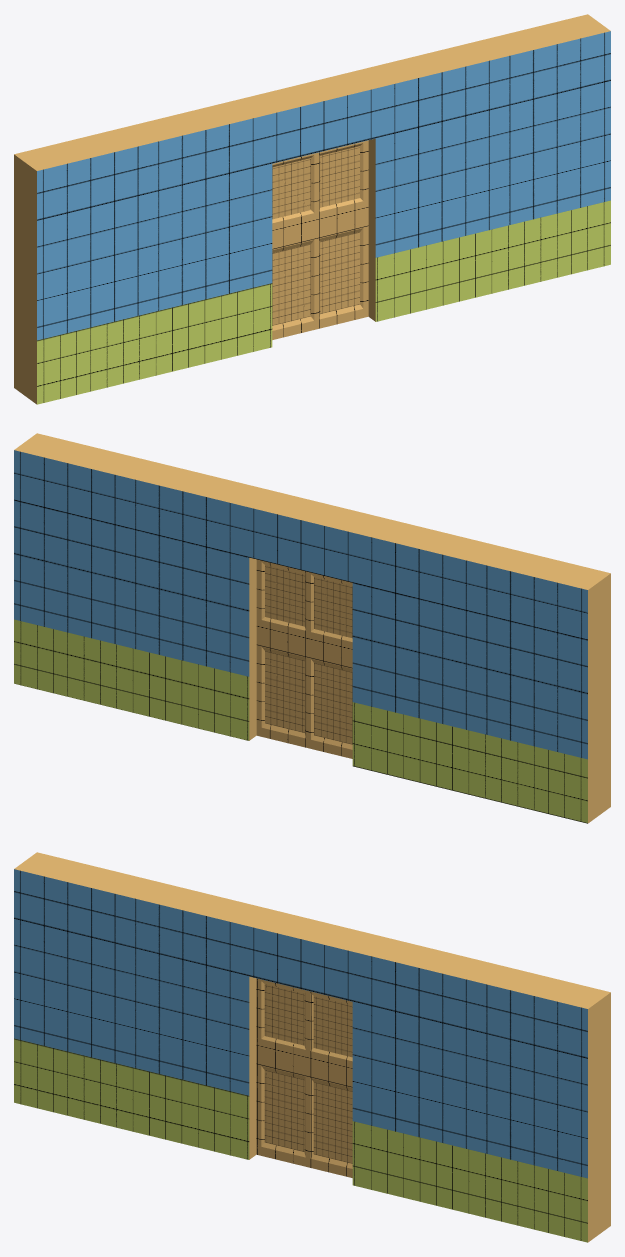
File: DoorAndWall.fbx
3 renders of one model, top to bottom at view 1: azimuth 30°, elevation 25°; view 2: azimuth 150°, elevation 25°; view 3: azimuth 330°, elevation 25°, orthographic.
Visible parts, largest first — view 1: Walls, Door; view 2: Walls, Door; view 3: Walls, Door.
Boxes of the visible parts, x1,y1,x2,y2 form: Walls: [14, 14, 610, 404]; Door: [272, 140, 368, 339]; Walls: [14, 433, 610, 823]; Door: [256, 559, 352, 758]; Walls: [14, 852, 610, 1242]; Door: [256, 978, 352, 1177].
Bounding box in the file's own units: 1008 × 392 × 70.
